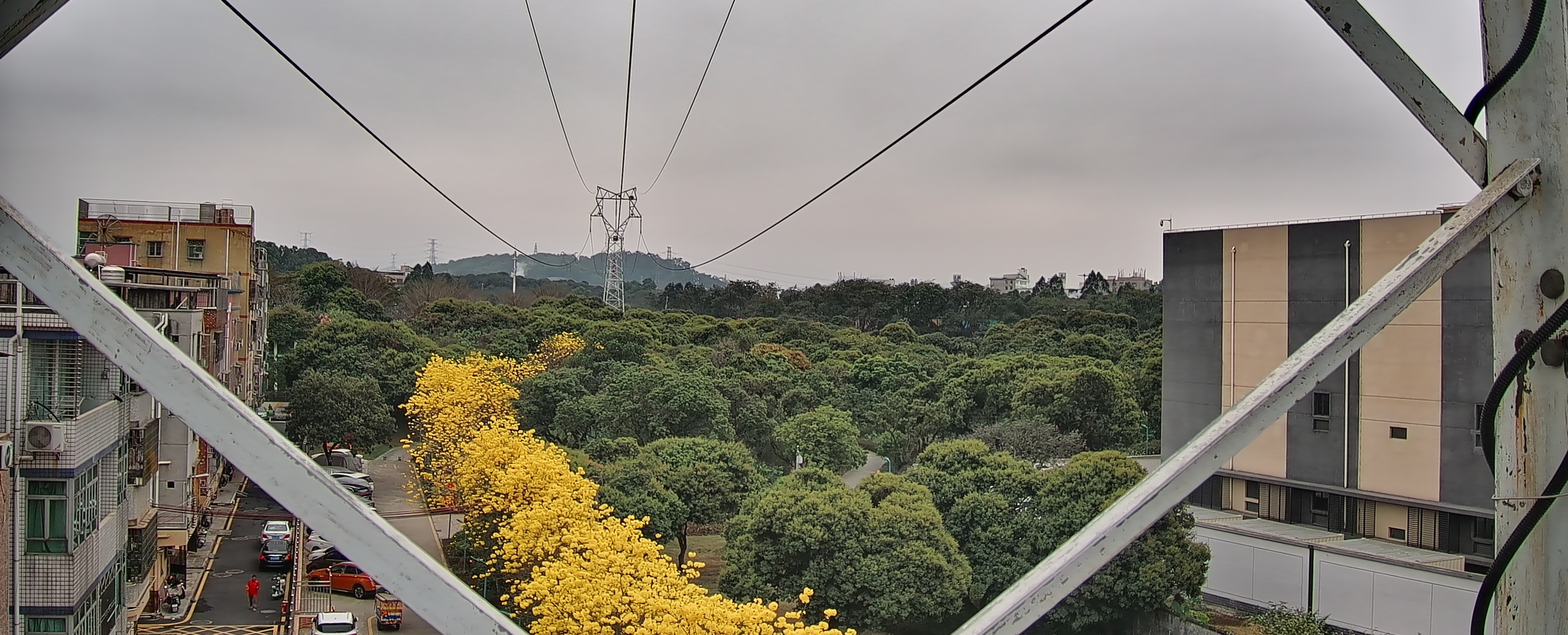烟雾: (509, 258, 538, 279)
